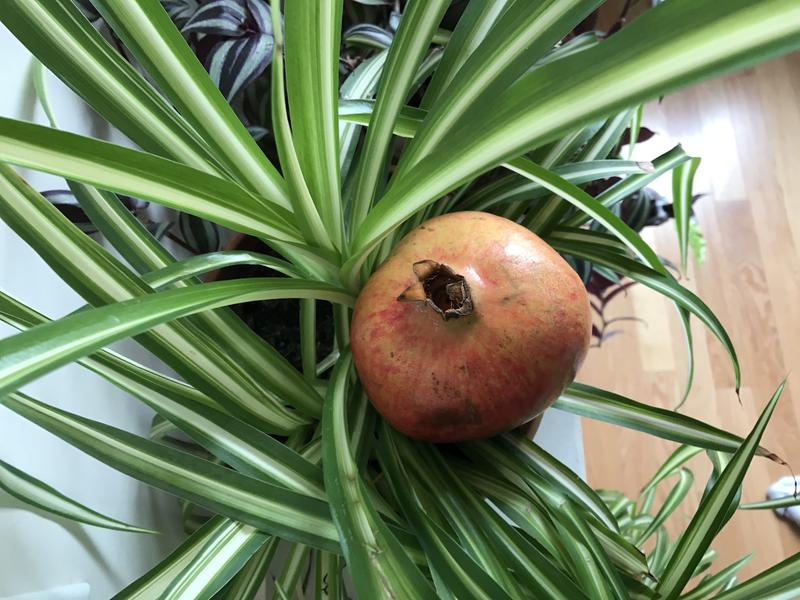pomegranate: (336, 194, 600, 452)
